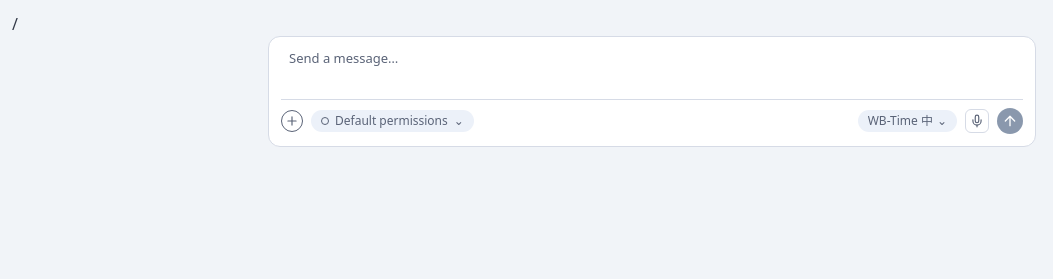
it: Composer › 模型选择：切换选项后触发器更新（含配置自定义模型入口）
The width and height of the screenshot is (1053, 279).
Click the button with test id "composer-model-trigger" at (907, 121), box [858, 110, 957, 132]
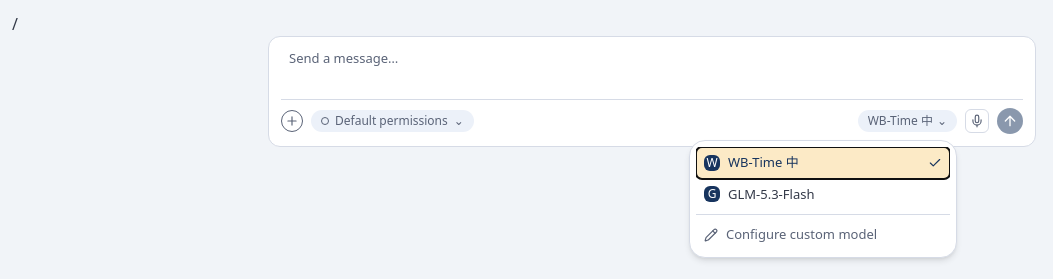
Expected: the list with test id "composer-model-panel" is shown, [689, 140, 957, 258]
Expected: the button with test id "composer-model-configure" is shown, [696, 219, 950, 250]
Click the option with test id "composer-model-option-p2" at (823, 194), box [696, 178, 950, 210]
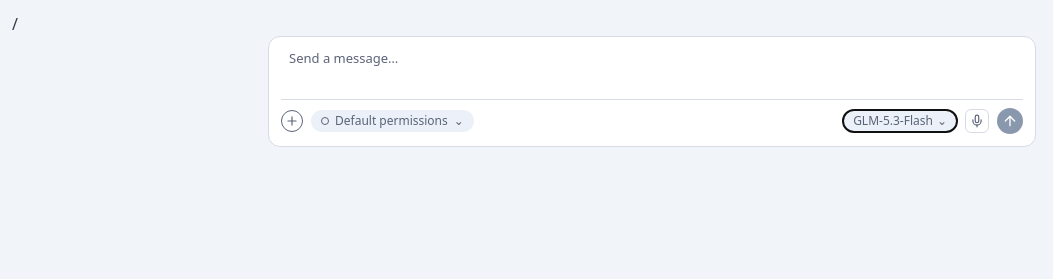
Expected: the button with test id "composer-model-trigger" shows "GLM-5.3-Flash", [843, 110, 957, 132]
